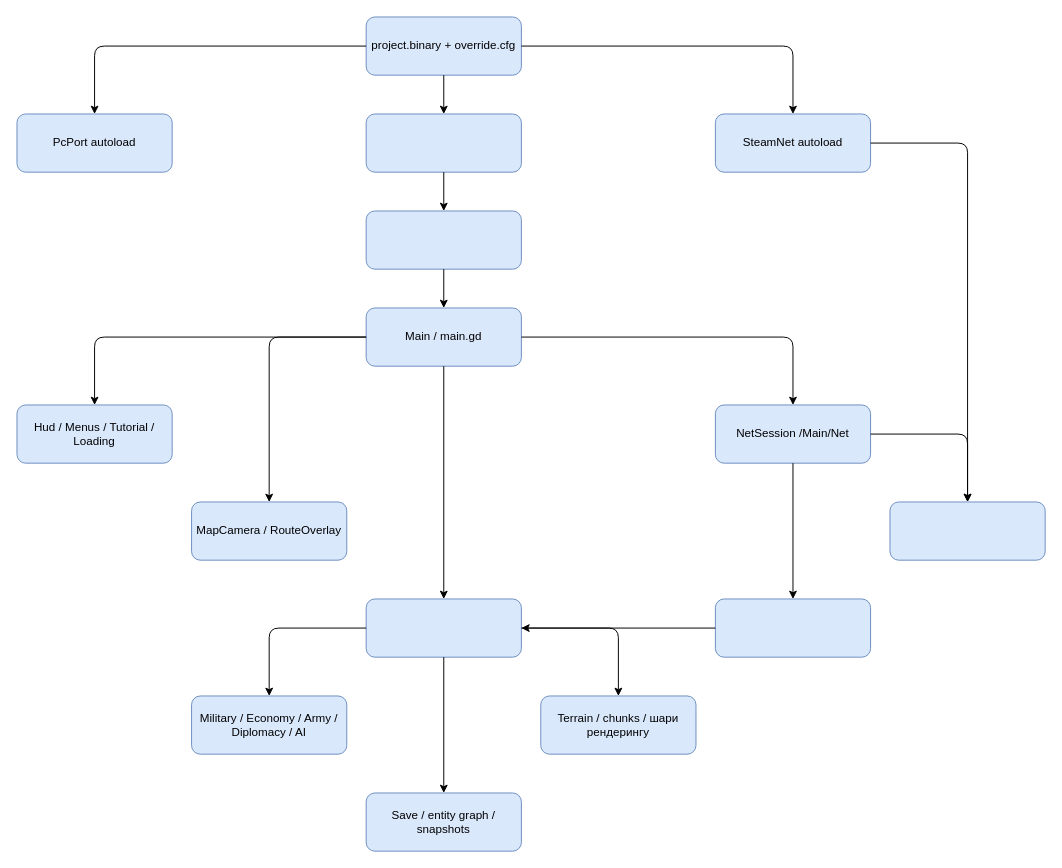
The diagram is 1062 pixels wide and 868 high, and some of its shapes have lost their labels. Each missing label, with the centre of its shape:
"ENet / SteamPeer / WebRTC" belongs at [967,530].
"GameWorld / WorldData" belongs at [443,627].
"main.tscn.remap / binary PackedScene" belongs at [443,239].
"PcBoot / updater" belongs at [443,142].
"Команди / ходи / net_step" belongs at [792,627].
